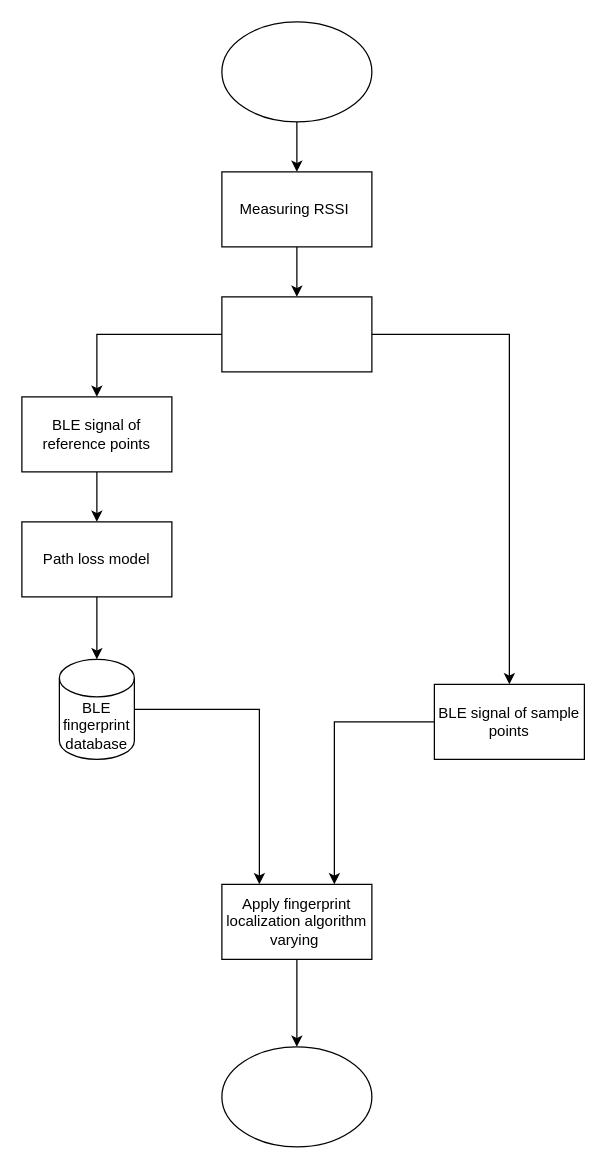
The diagram is 606 pixels wide and 1169 high, and some of its shapes have lost their labels. The centre of each missing label's shape, as x and y in pixels:
Application of filtering method: the point at 296,334
Deployment and calibration of beacons: the point at 296,71
Output: the point at 296,1096
